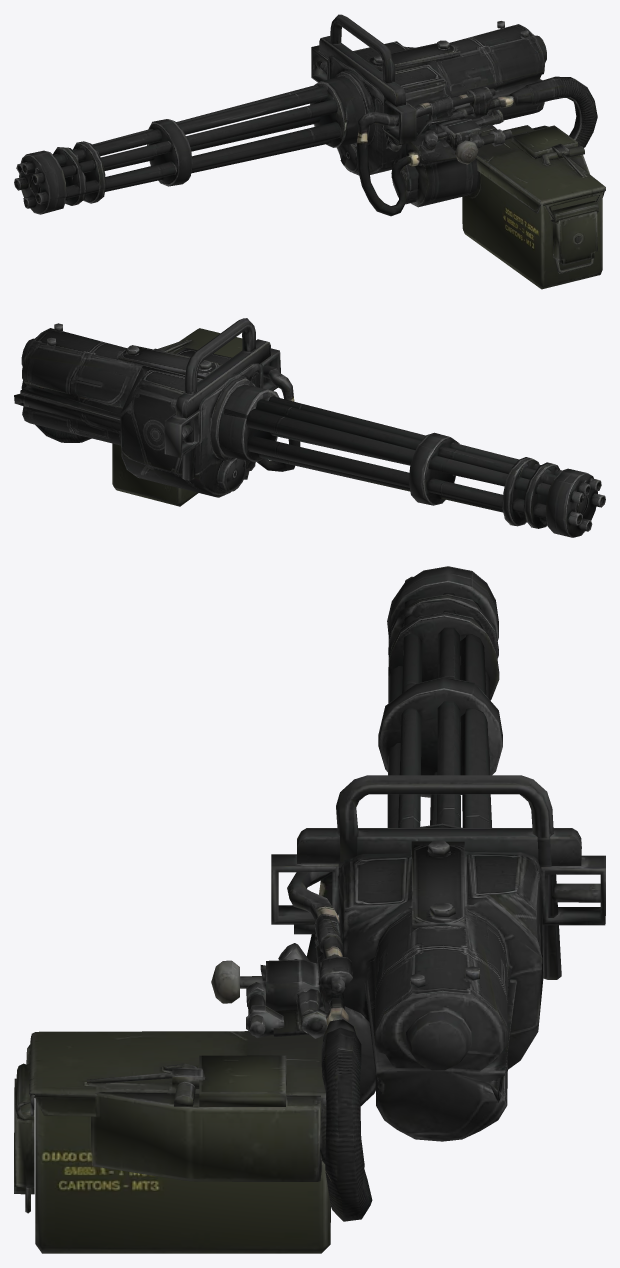
File: arma_minigun.glb
3 views of the same model, one above another, from view 1: azimuth 30°, elevation 25°; view 2: azimuth 150°, elevation 25°; view 3: azimuth 270°, elevation 25° (orthographic). The views are drawn at different scales.
Size of the model in its own units: 0.9575 by 0.333 by 0.4912.
Materials: 1 (1 with a texture image).
